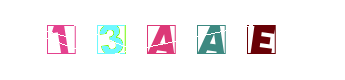1: (76, 0, 156, 80)
3: (90, 0, 170, 80)
A: (132, 0, 212, 80), (160, 0, 240, 80)
E: (221, 0, 301, 80)
